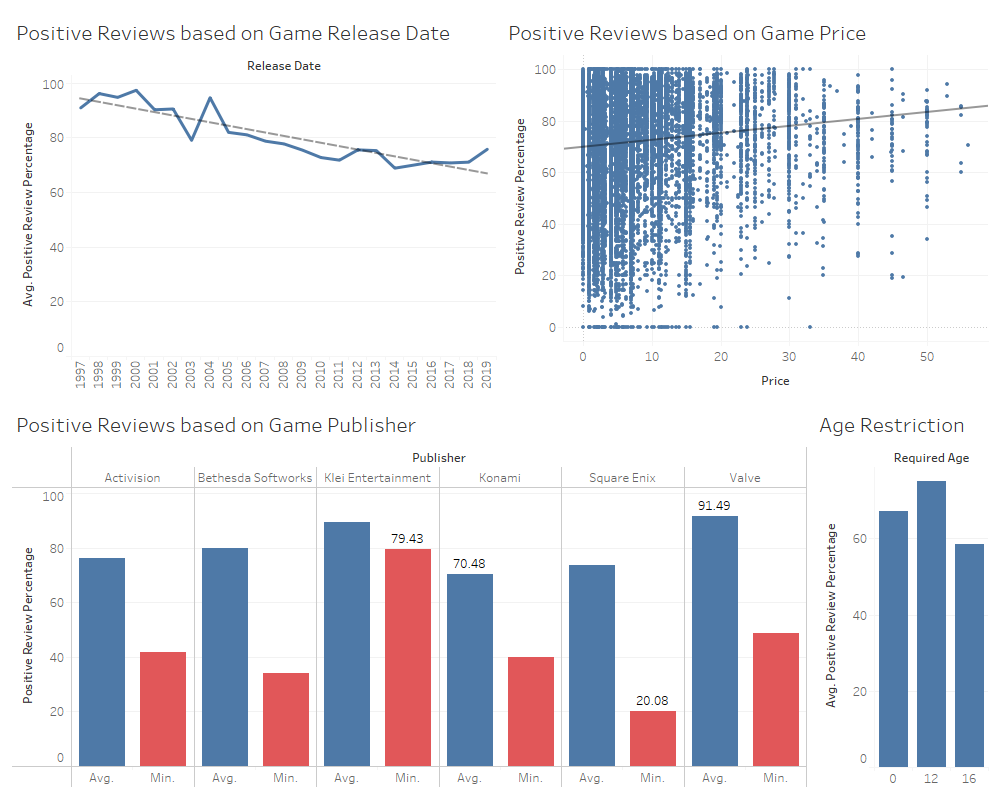

Layout of this report page (visuals, bound fields, positions):
{"tool":"tableau","page":{"name":"Release","canvas":[1000,800],"ordinal":2},"visuals":[{"type":"worksheet","title":"Release Date","mark":"Automatic","rows":["Calculation_786159644411617280"],"cols":["release_date"],"box":[8,8,492,392]},{"type":"worksheet","title":"Price","mark":"Automatic","rows":["Calculation_786159644411617280"],"cols":["price"],"box":[500,8,492,392]},{"type":"worksheet","title":"Publisher","mark":"Automatic","cols":["publisher"],"box":[8,400,803,392]},{"type":"worksheet","title":"Age Restriction","mark":"Automatic","rows":["Calculation_786159644411617280"],"cols":["required_age"],"box":[811,400,181,392]}]}

Visuals, with their boxes in screenshot pixels (x1, y1, x2, y2), scaled from the page's 1000x800 canvas onto the 1000x800 screenshot:
"Release Date" worksheet: 8,8,500,400
"Price" worksheet: 500,8,992,400
"Publisher" worksheet: 8,400,811,792
"Age Restriction" worksheet: 811,400,992,792
